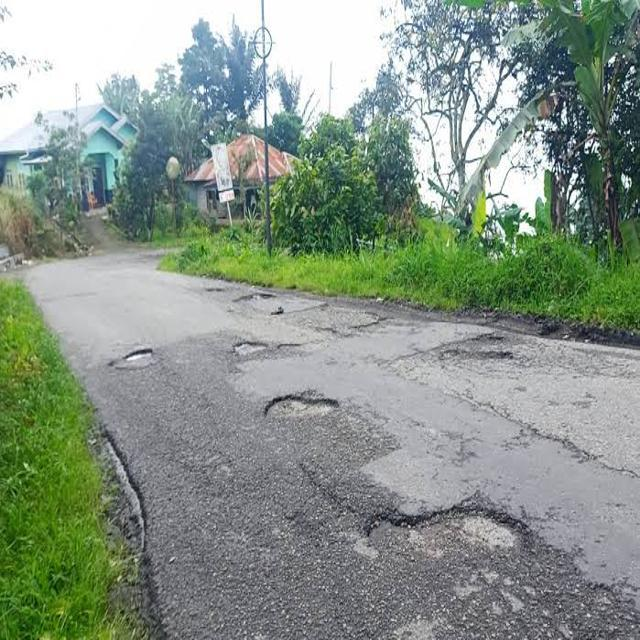Lubang: (361, 503, 536, 551), (260, 393, 344, 420), (123, 350, 156, 366), (233, 342, 269, 355)
